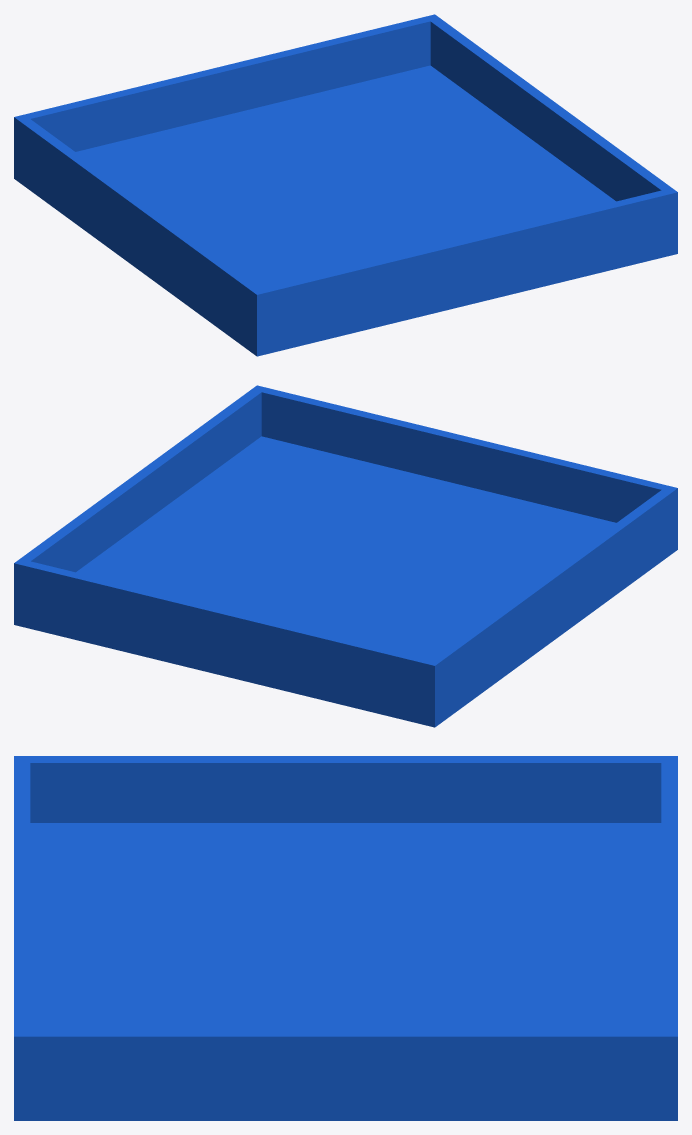
File: blue_tray.dae
3 views of the same model, one above another, from view 1: azimuth 30°, elevation 25°; view 2: azimuth 150°, elevation 25°; view 3: azimuth 270°, elevation 25° (orthographic). The views are drawn at different scales.
Parts seen in each view (by area): view 1: Cube; view 2: Cube; view 3: Cube.
Boxes of the visible parts, x1,y1,x2,y2 form: Cube: (14,14,677,356); Cube: (14,385,677,727); Cube: (14,756,677,1120).
Bounding box in the file's own units: 0.5 × 0.5 × 0.07.
